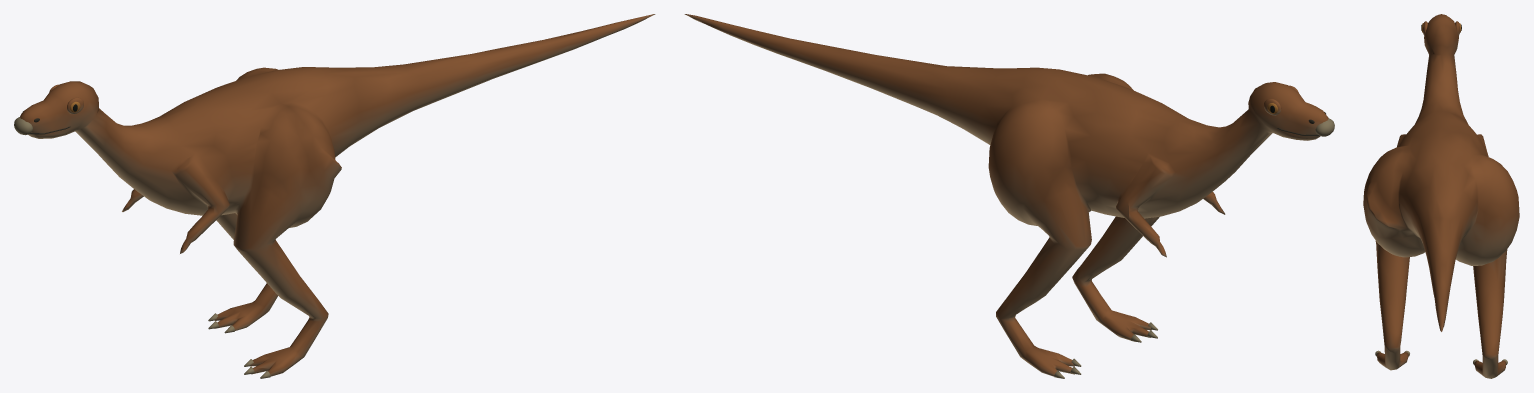
Rendered from dryo.glb.
3 views of the same model, side by side, from view 1: azimuth 30°, elevation 25°; view 2: azimuth 150°, elevation 25°; view 3: azimuth 270°, elevation 25° (orthographic). The views are drawn at different scales.
Parts seen in each view (by area): view 1: D01 continuous sculpt; view 2: D01 continuous sculpt; view 3: D01 continuous sculpt.
Boxes of the visible parts, x1,y1,x2,y2 form: D01 continuous sculpt: [20, 14, 655, 376]; D01 continuous sculpt: [684, 14, 1328, 377]; D01 continuous sculpt: [1363, 14, 1519, 378].
Size of the model in its own units: 3.19 by 1.47 by 0.7686.
